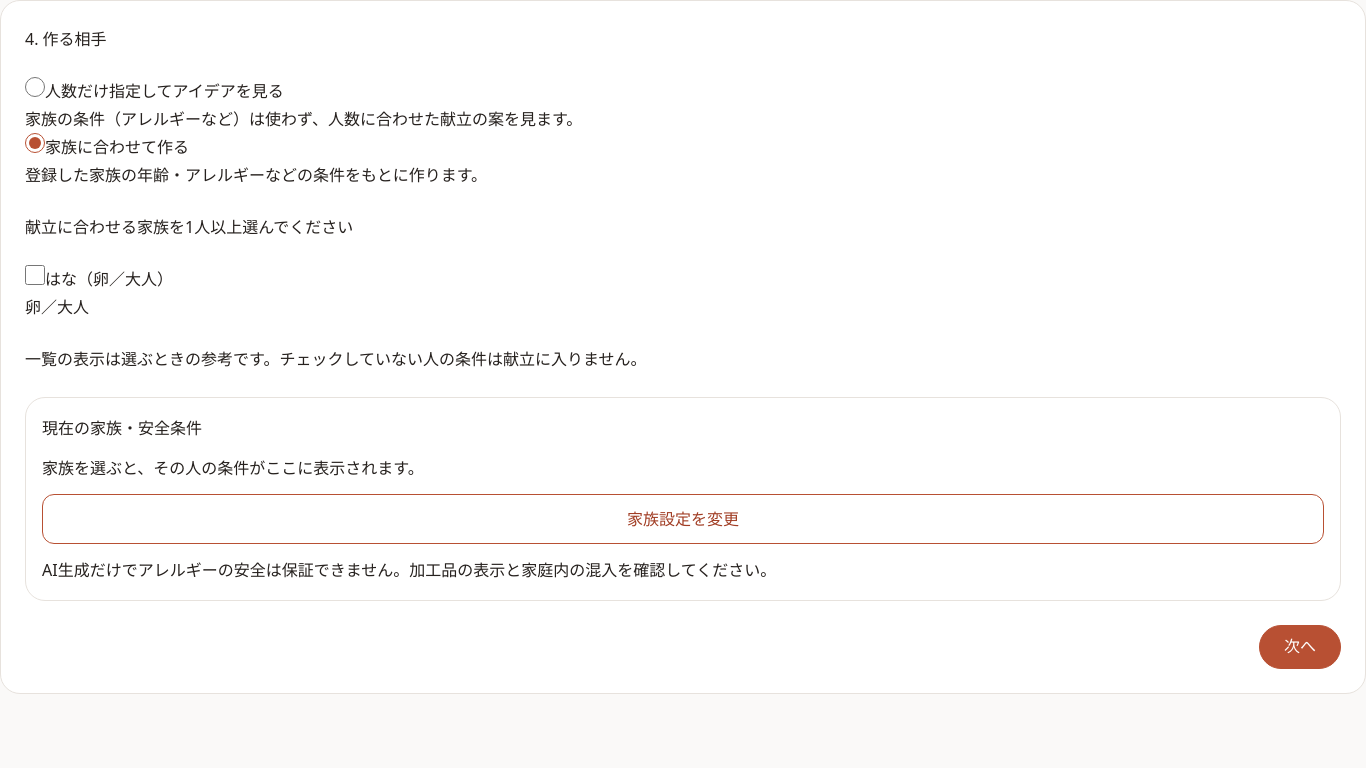
Test: AudienceStep incomplete UX › household zero next: toast+alert+focus members group
The image size is (1366, 768).
Click the button "次へ" at [1300, 647], box [1259, 625, 1341, 669]
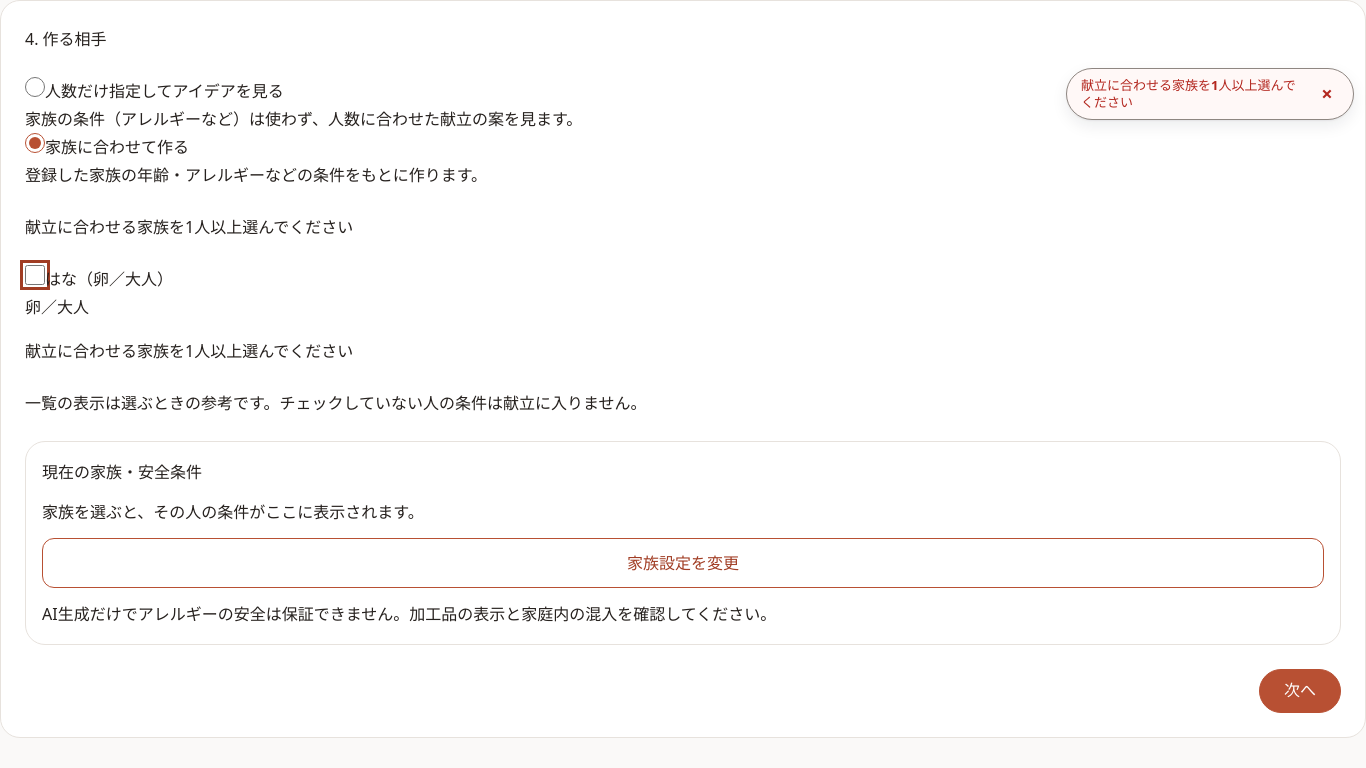
Check: the message "献立に合わせる家族を1人以上選んでください" is shown, box [25, 340, 353, 362]
Check: the message "献立に合わせる家族を1人以上選んでください ×" is shown, box [1066, 68, 1354, 120]
